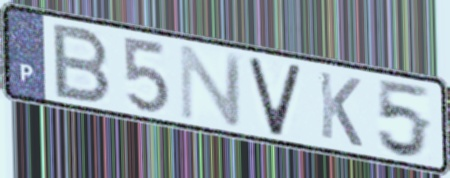5: (373, 75, 434, 160), (120, 33, 173, 116)
B: (51, 20, 115, 106)
K: (316, 68, 365, 151)
N: (177, 42, 246, 129)
V: (245, 56, 304, 139)
